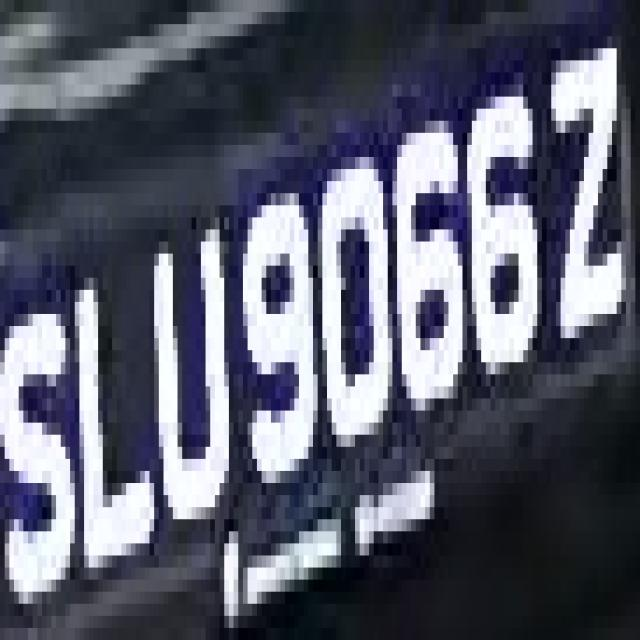0: (304, 133, 397, 471)
6: (448, 72, 532, 410), (393, 72, 467, 422)
9: (238, 157, 322, 471)
L: (66, 266, 154, 580)
S: (0, 254, 75, 592)
U: (140, 206, 234, 544)
Z: (542, 37, 621, 374)
